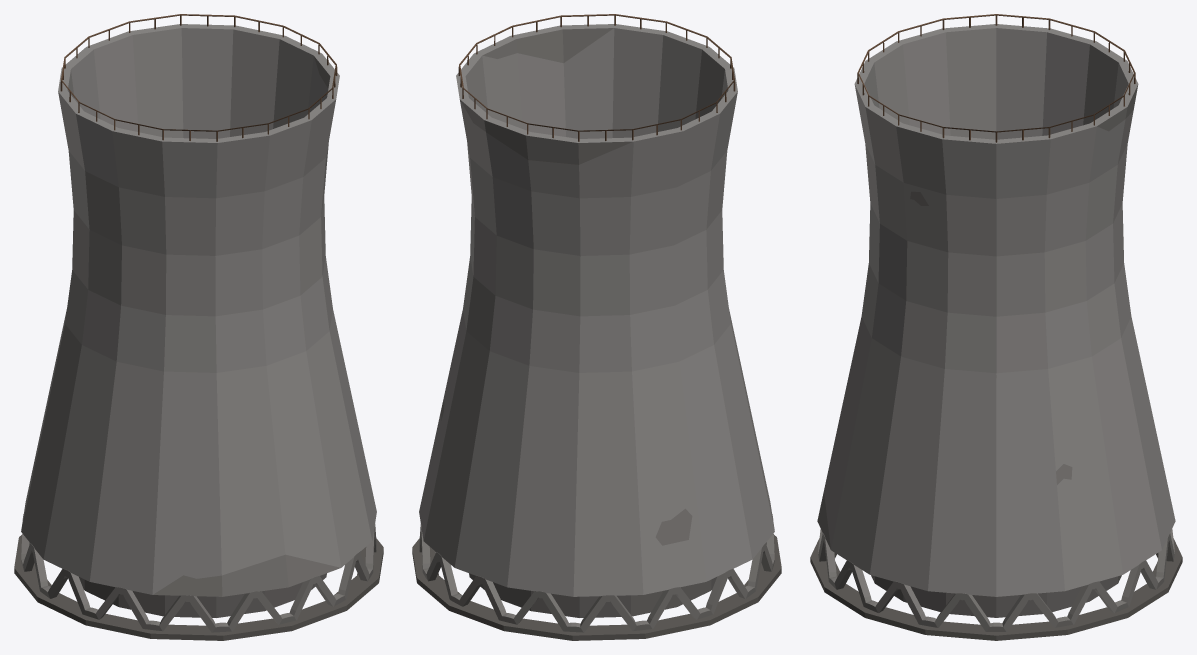
File: SM_Props_Industrial_CoolingTower.fbx
The picture shows the model from 3 angles, left to right: view 1: azimuth 30°, elevation 25°; view 2: azimuth 150°, elevation 25°; view 3: azimuth 270°, elevation 25°; orthographic projection.
Visible parts, largest first — view 1: SM_Props_Industrial_CoolingTower; view 2: SM_Props_Industrial_CoolingTower; view 3: SM_Props_Industrial_CoolingTower.
Part boxes in pixels (box(x1,y1,x2,y2)): SM_Props_Industrial_CoolingTower: box(14, 14, 383, 640); SM_Props_Industrial_CoolingTower: box(412, 14, 781, 640); SM_Props_Industrial_CoolingTower: box(810, 14, 1182, 640).
Bounding box in the file's own units: 3053 × 4433 × 3053.
